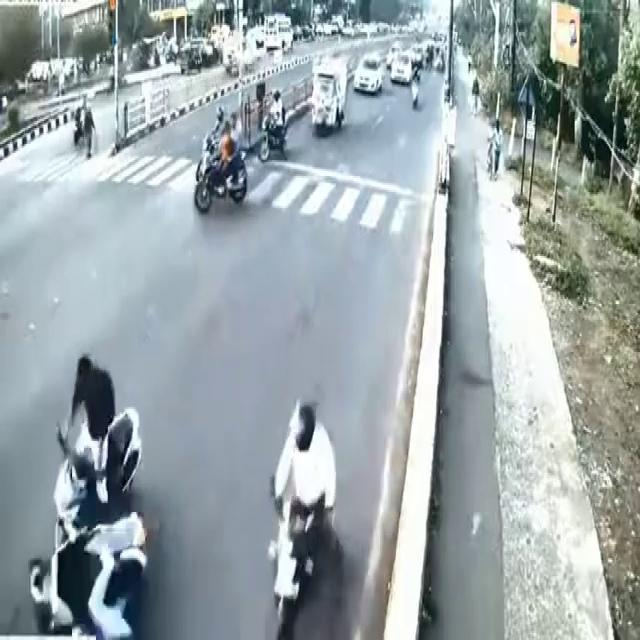accident: (34, 336, 154, 640)
